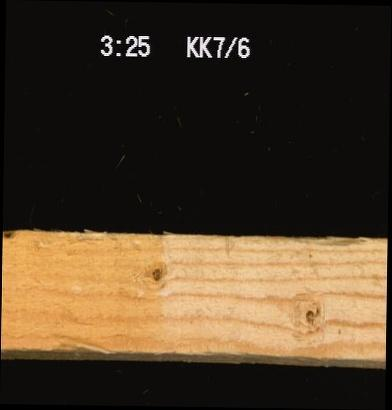edge_knot: (2, 227, 15, 243)
small_knot: (288, 289, 329, 339), (139, 257, 171, 292)
